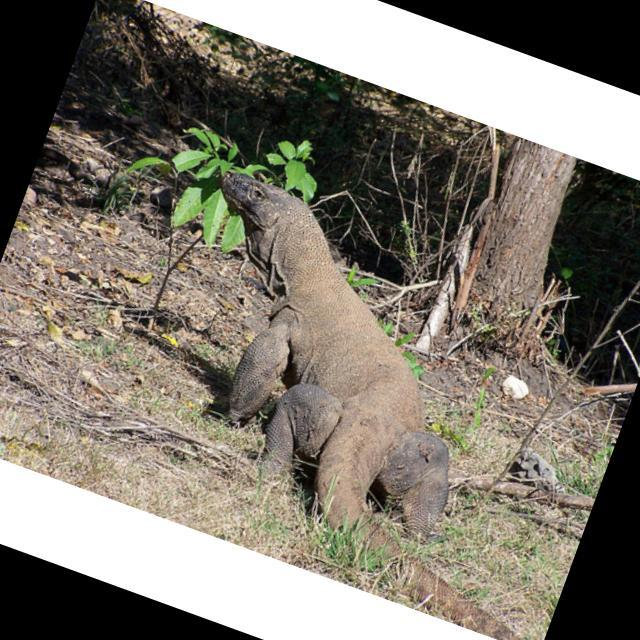KomodoDragon: (109, 168, 640, 640)
